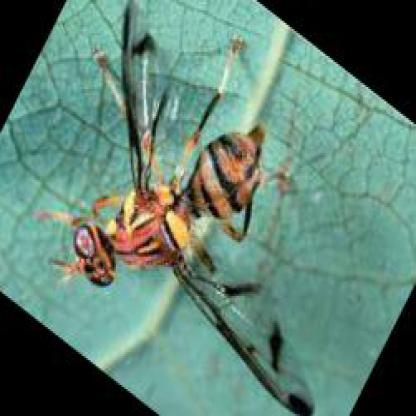fruit fly: (41, 7, 312, 412)
